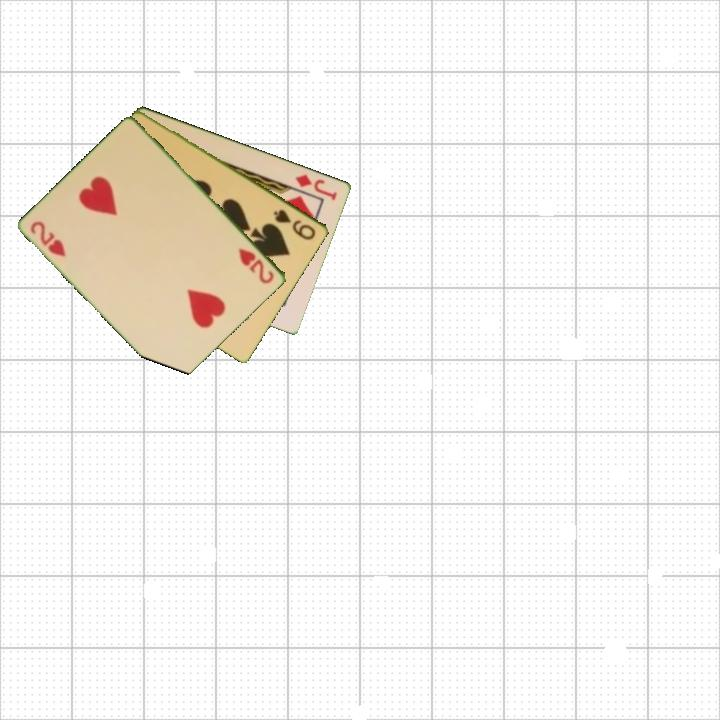2h: (27, 217, 69, 260), (235, 244, 277, 286)
9s: (270, 205, 319, 243)
Jd: (292, 170, 340, 203)
